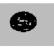correct: (7, 10, 38, 34)
